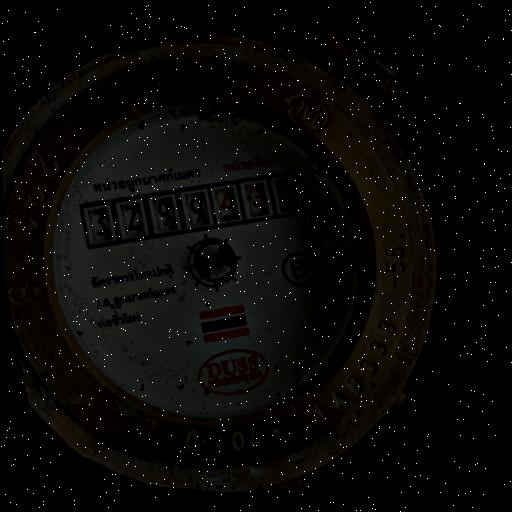2: (119, 202, 146, 237)
3: (244, 181, 269, 218), (88, 207, 113, 242)
4: (214, 186, 240, 224)
9: (153, 196, 177, 232), (274, 178, 300, 211), (186, 191, 209, 227)
border_water_meter_number: (78, 164, 310, 253)
